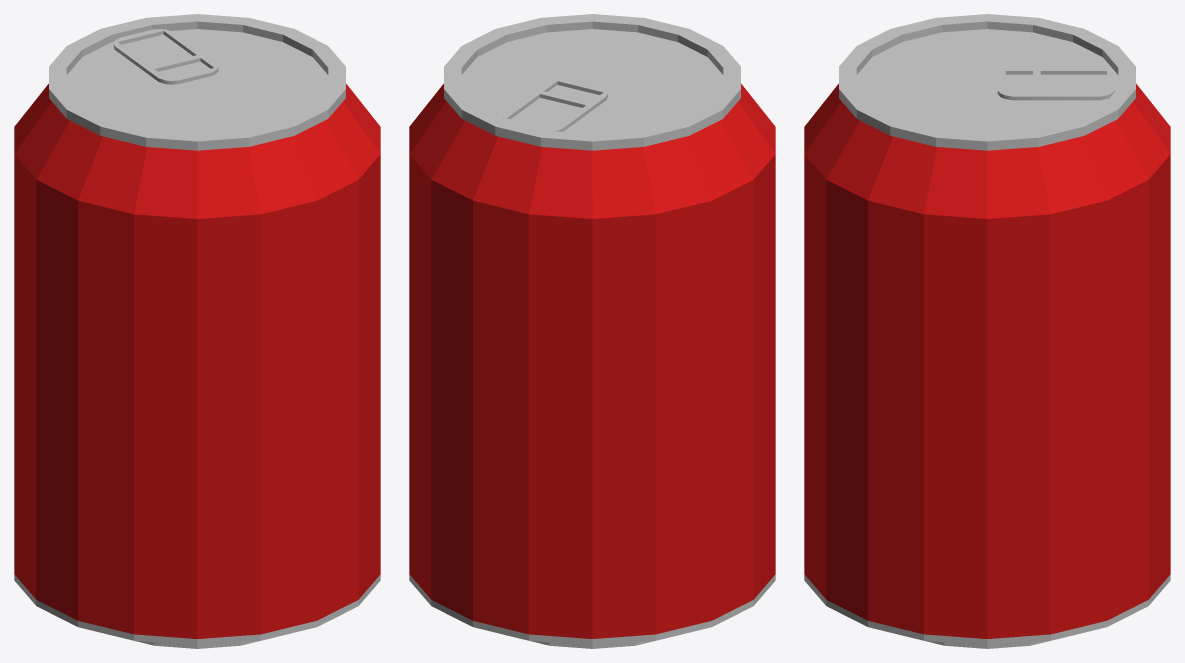
The model's file is soda_can.glb.
The picture shows the model from 3 angles, left to right: view 1: azimuth 30°, elevation 25°; view 2: azimuth 150°, elevation 25°; view 3: azimuth 270°, elevation 25°; orthographic projection.
Visible parts, largest first — view 1: Box001; view 2: Box001; view 3: Box001.
Boxes of the visible parts, left/top/right/bottom form: Box001: left=14, top=14, right=380, bottom=648; Box001: left=409, top=14, right=775, bottom=648; Box001: left=804, top=14, right=1170, bottom=648.
Size of the model in its own units: 2.23 by 3.43 by 2.2.
